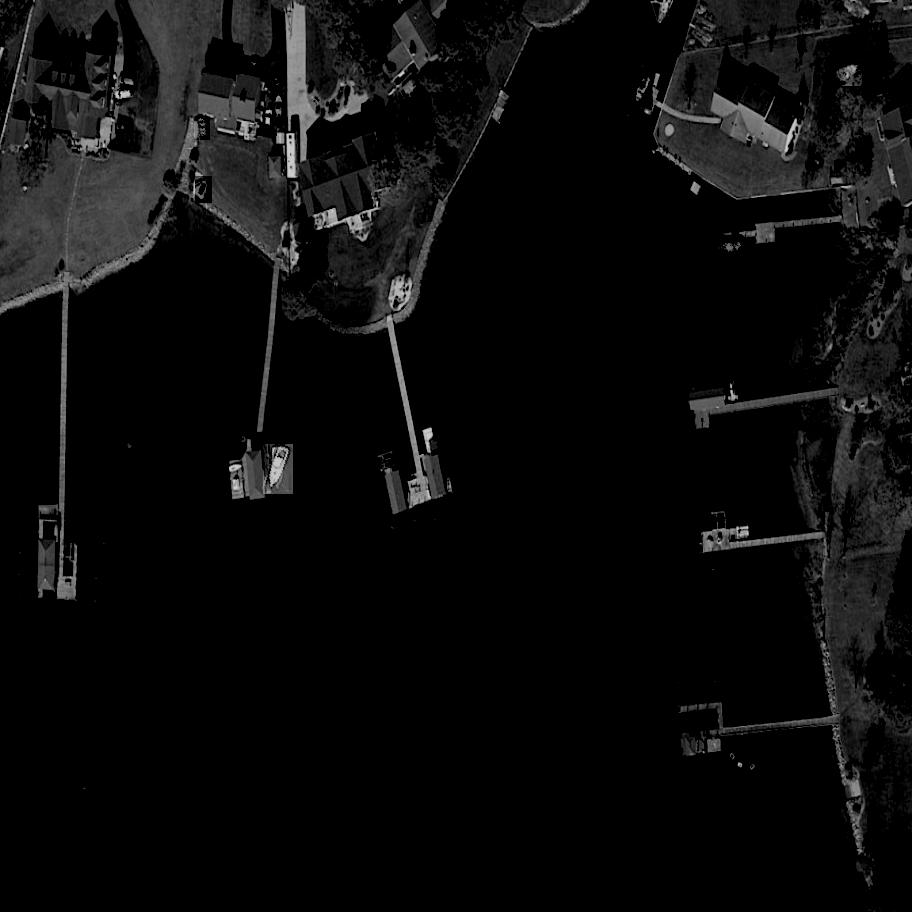ship: (263, 444, 295, 494), (630, 73, 656, 107), (833, 60, 865, 87), (719, 237, 747, 261), (195, 175, 213, 203), (195, 115, 211, 141), (272, 96, 285, 124)
small-vehicle: (361, 103, 383, 131), (245, 60, 266, 76), (271, 66, 284, 89), (263, 109, 274, 136), (113, 90, 136, 102), (117, 76, 138, 88), (115, 123, 133, 133)
